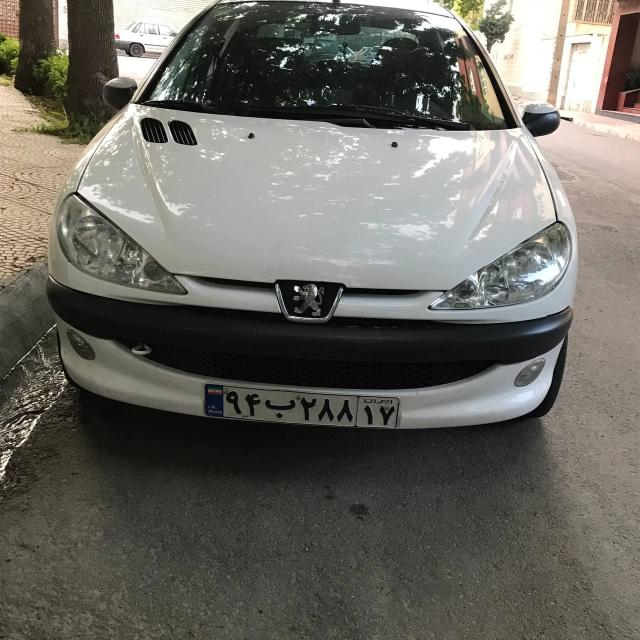Plates: (202, 384, 400, 429)
